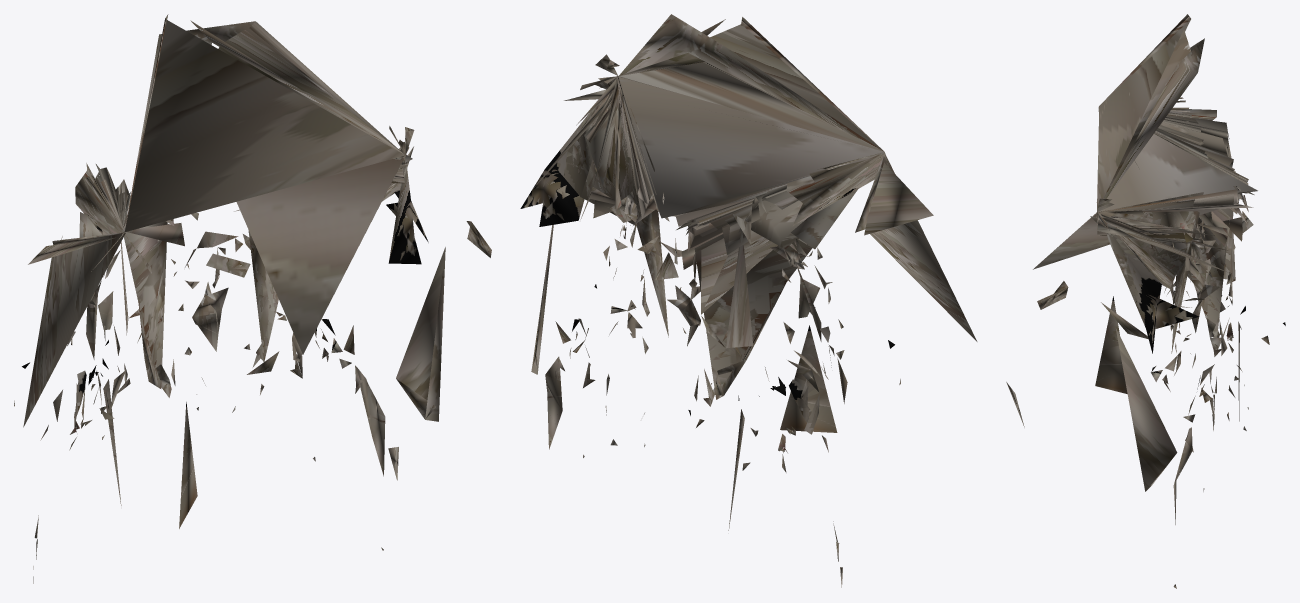
The model's file is ex_soldier_far.glb.
3 renders of one model, left to right at view 1: azimuth 30°, elevation 25°; view 2: azimuth 150°, elevation 25°; view 3: azimuth 270°, elevation 25°, orthographic. The views are drawn at different scales.
Parts seen in each view (by area): view 1: ex_soldier_far; view 2: ex_soldier_far; view 3: ex_soldier_far.
Boxes of the visible parts, x1,y1,x2,y2 form: ex_soldier_far: [14, 14, 491, 583]; ex_soldier_far: [520, 14, 977, 587]; ex_soldier_far: [1006, 14, 1285, 588].
Size of the model in its own units: 0.8621 by 1.09 by 0.5641.
Materials: 1 (1 with a texture image).
